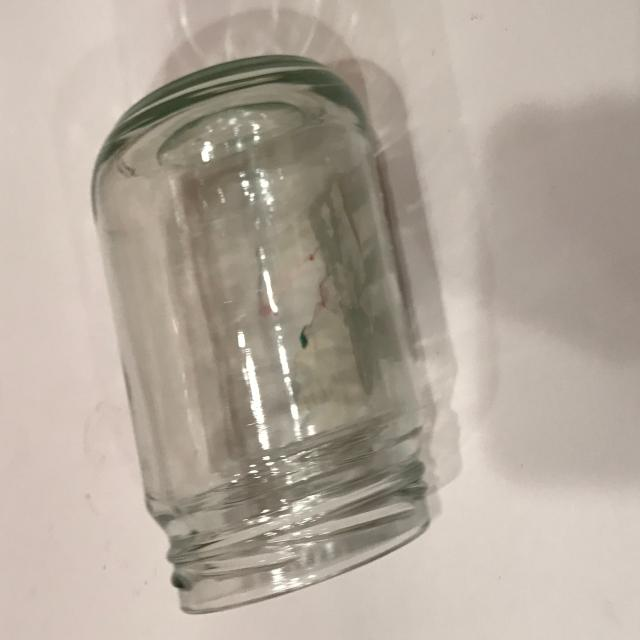glass: (91, 52, 431, 621)
